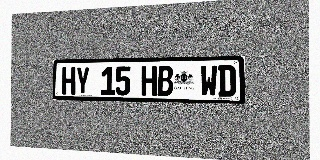1: (101, 66, 115, 95)
5: (116, 66, 130, 95)
B: (157, 66, 173, 96)
D: (218, 65, 236, 97)
H: (141, 66, 157, 96), (62, 67, 75, 95)
W: (200, 65, 217, 97)
Y: (76, 67, 90, 95)
